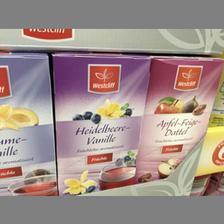Tee: (51, 53, 149, 196), (137, 56, 223, 182), (0, 51, 56, 193)
